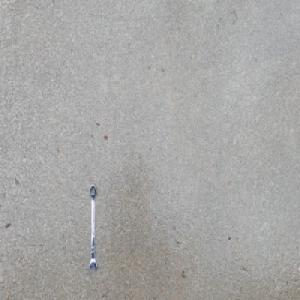Wrench: (88, 183, 98, 274)
